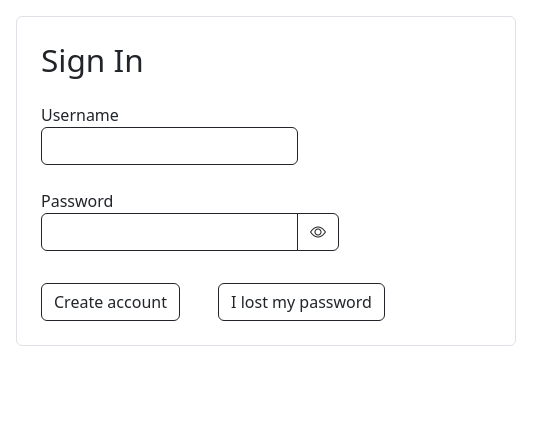
Test case: Login page › requests password reset
Type "user@example.com" into the field labelled "Username". click: [170, 146]
box: [41,127,298,165]
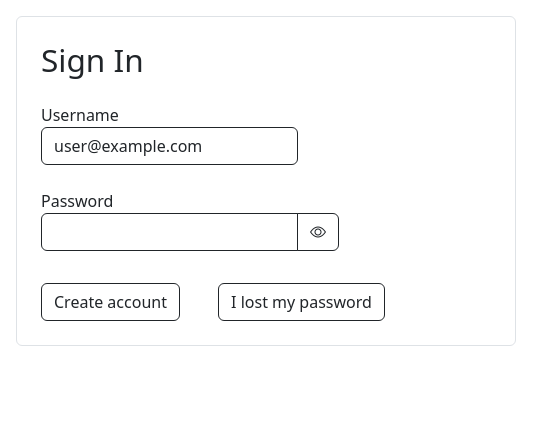
Click the button "I lost my password". click: [302, 302]
box: [218,283,385,321]
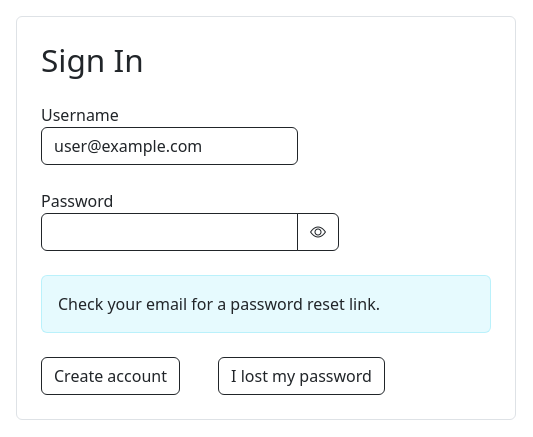
Result: the text "Check your email for a password reset link." is shown at [41,275,491,333]
